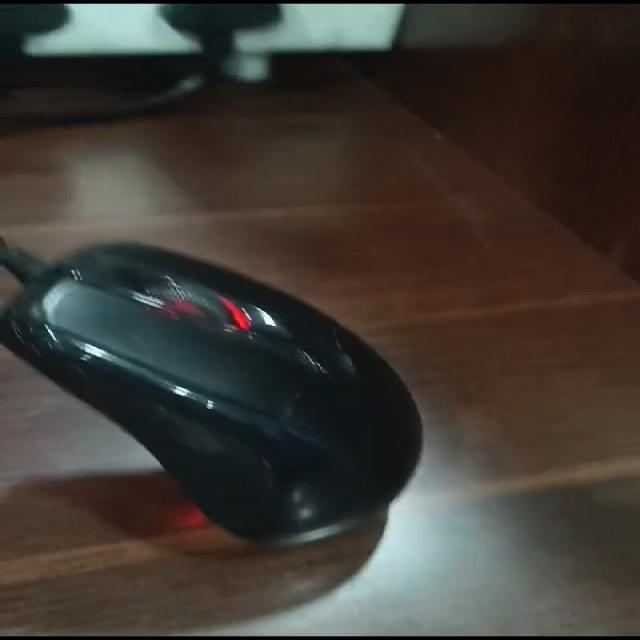Mouse: (0, 206, 459, 566)
